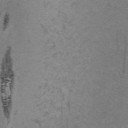oxide scale of plate system: (0, 46, 16, 122), (2, 11, 10, 30)
